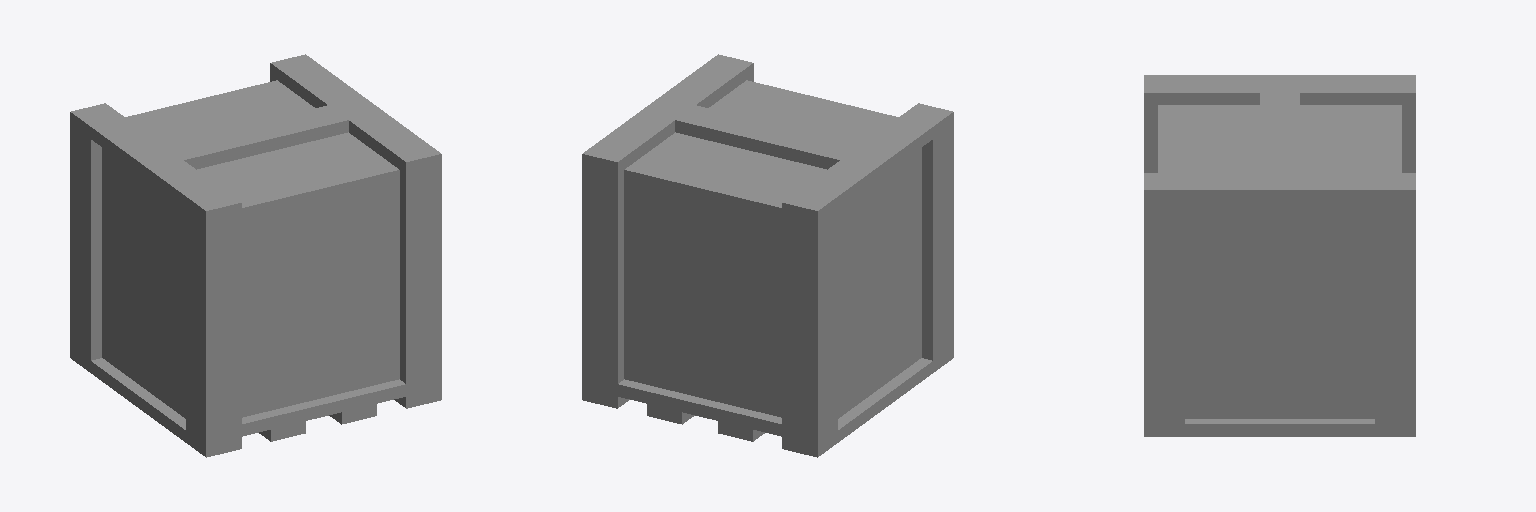
File: Crate01.obj
3 renders of one model, left to right at view 1: azimuth 30°, elevation 25°; view 2: azimuth 150°, elevation 25°; view 3: azimuth 270°, elevation 25°, orthographic.
Parts seen in each view (by area): view 1: Cube_Cube.001; view 2: Cube_Cube.001; view 3: Cube_Cube.001.
Boxes of the visible parts, x1,y1,x2,y2 form: Cube_Cube.001: [70, 54, 441, 457]; Cube_Cube.001: [582, 54, 953, 457]; Cube_Cube.001: [1144, 75, 1415, 436].
Size of the model in its own units: 2 by 2 by 2.